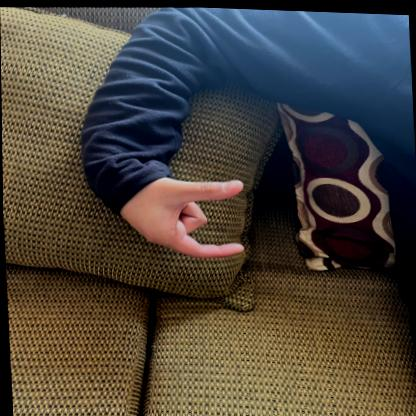G: (110, 167, 254, 264)
